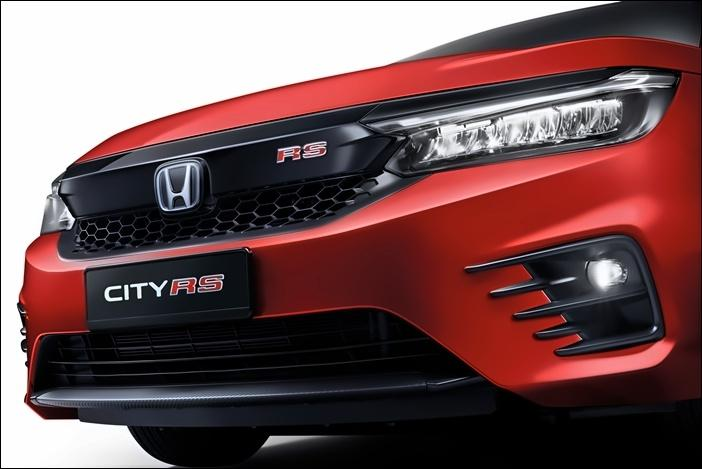Car hood: (696, 55, 702, 57)
Front bumper: (18, 69, 700, 451), (40, 24, 694, 185)
Headlight - -L-: (362, 56, 682, 204)
Headlight - -R-: (37, 159, 83, 248)
